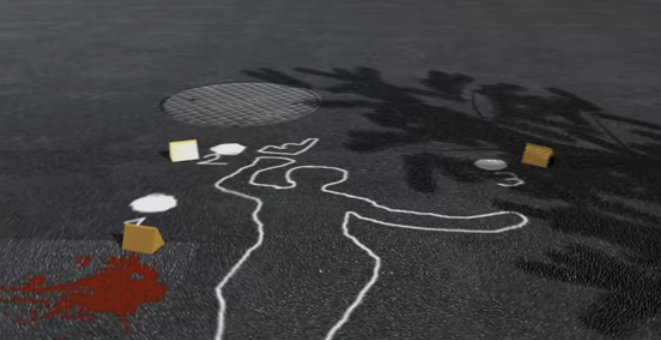blood_44.png: (1, 237, 186, 336)
